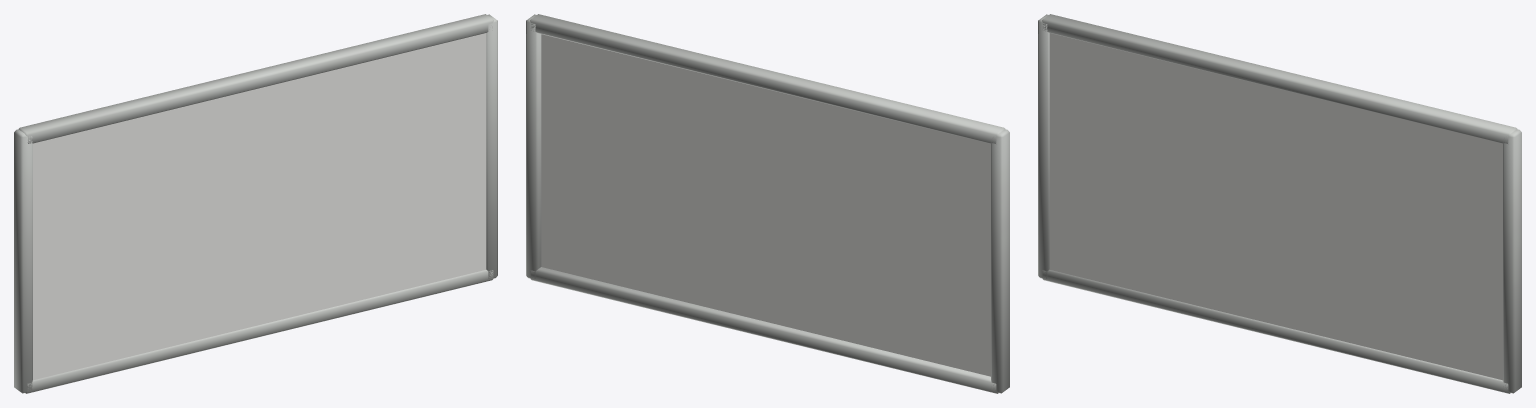
File: sign_frame.glb
3 renders of one model, left to right at view 1: azimuth 30°, elevation 25°; view 2: azimuth 150°, elevation 25°; view 3: azimuth 330°, elevation 25°, orthographic.
Parts seen in each view (by area): view 1: sign_frame_galv; view 2: sign_frame_galv; view 3: sign_frame_galv.
Boxes of the visible parts, left/top/right/bottom form: sign_frame_galv: left=14, top=14, right=497, bottom=393; sign_frame_galv: left=526, top=14, right=1009, bottom=393; sign_frame_galv: left=1038, top=14, right=1521, bottom=393.
Size of the model in its own units: 1.89 by 0.99 by 0.06.
1 material, 1 textured.
